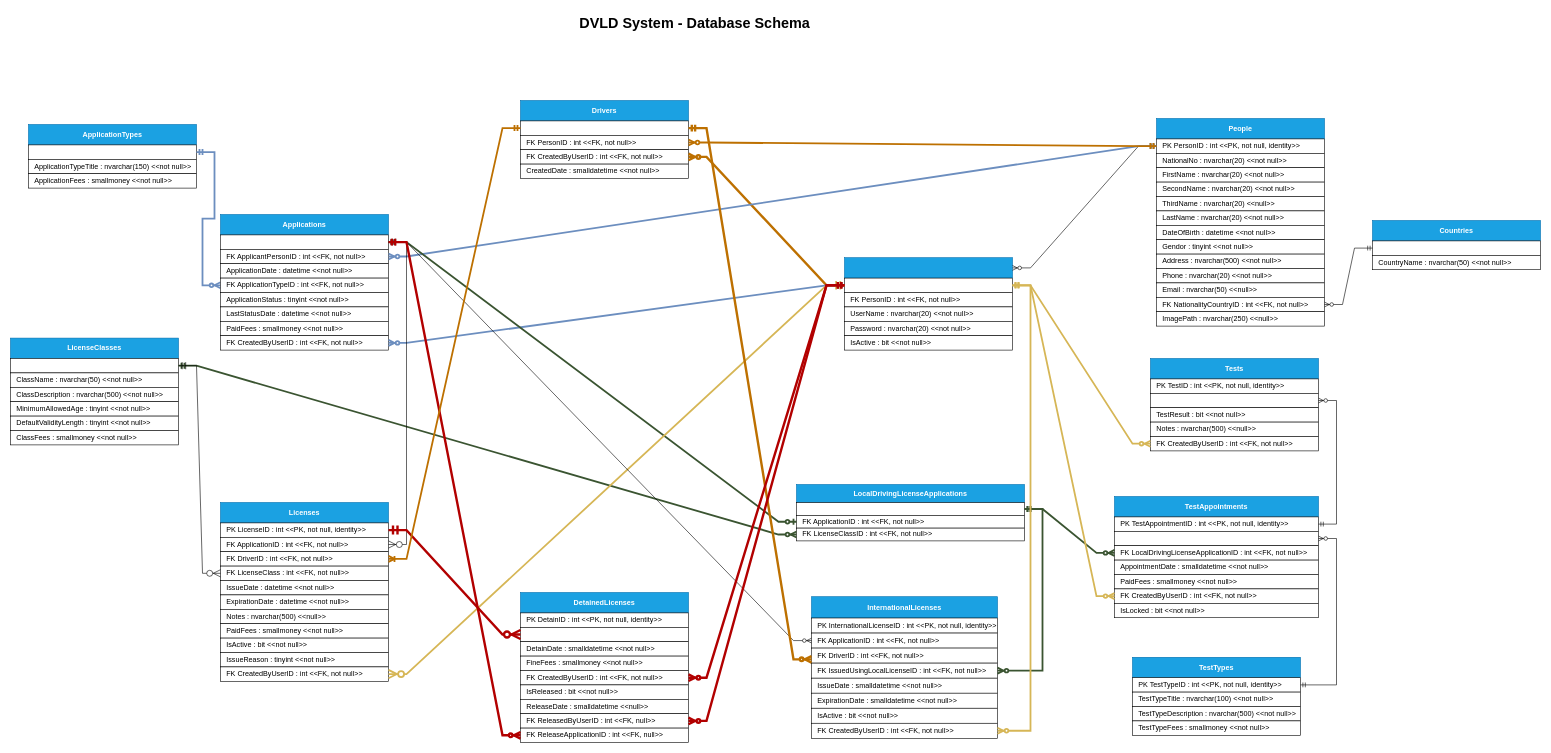
Some shapes in this 1551 by 753 pixel diagram are drawn without their labels. Each missing label, with the centre of its shape:
"FK LicenseID : int <<FK, not null>>" goes at (x=604, y=634).
"FK TestAppointmentID : int <<FK, not null>>" goes at (x=1234, y=400).
"FK TestTypeID : int <<FK, not null>>" goes at (x=1216, y=538).
"PK ApplicationID : int <<PK, not null, identity>>" goes at (x=304, y=241).
"PK ApplicationTypeID : int <<PK, not null, identity>>" goes at (x=112, y=151).
"PK CountryID : int <<PK, not null, identity>>" goes at (x=1456, y=247).
"PK DriverID : int <<PK, not null, identity>>" goes at (x=604, y=127).
"PK LicenseClassID : int <<PK, not null, identity>>" goes at (x=94, y=365).
"PK LocalDrivingLicenseApplicationID : int <<PK, not null, identity>>" goes at (x=910, y=508).
"PK UserID : int <<PK, not null, identity>>" goes at (x=928, y=285).
"Users" goes at (x=928, y=267).
